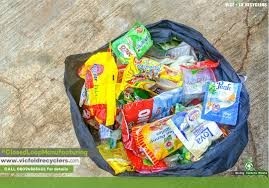plastic: (77, 50, 121, 128), (167, 103, 224, 158), (129, 117, 194, 163), (119, 53, 181, 98), (199, 79, 243, 126), (108, 22, 155, 61)
